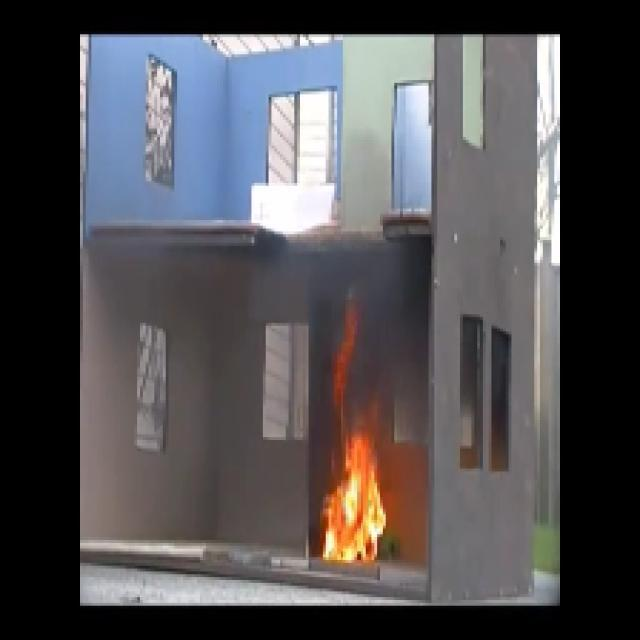Fire: (317, 419, 388, 576)
Smoke: (320, 244, 416, 300)
